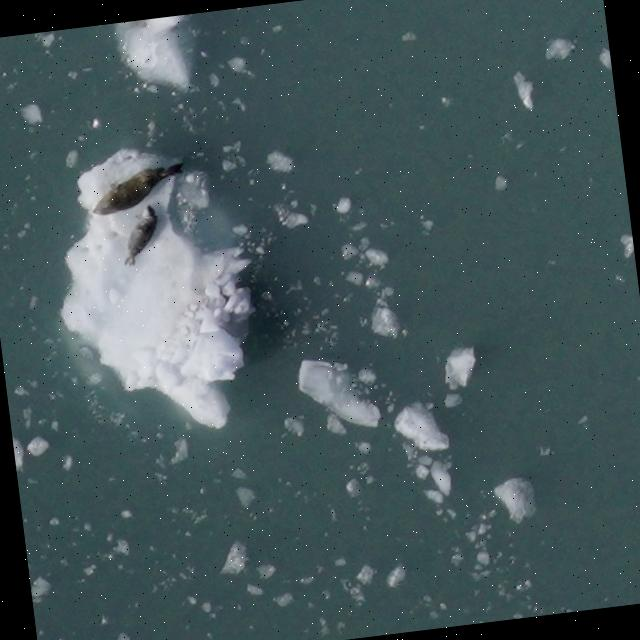seal: (84, 156, 196, 223), (113, 200, 168, 271)
